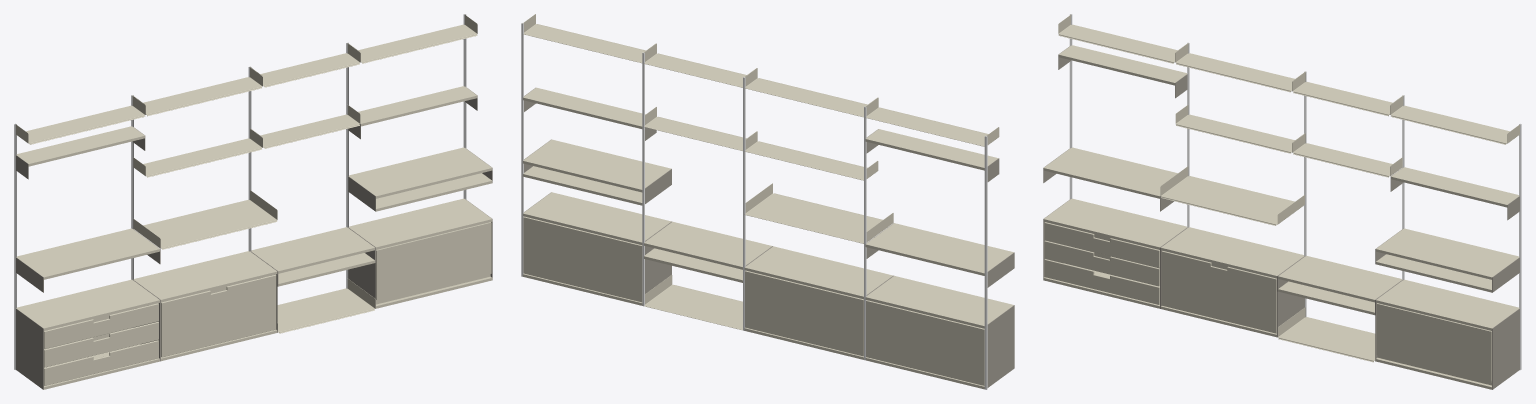
File: shelf 2.glb
3 renders of one model, left to right at view 1: azimuth 30°, elevation 25°; view 2: azimuth 150°, elevation 25°; view 3: azimuth 330°, elevation 25°, orthographic. The views are drawn at different scales.
Bounding box in the file's own units: 3.52 × 1.84 × 0.3904.
